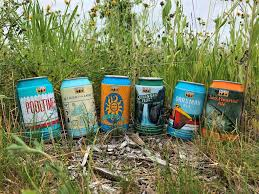can: (15, 76, 62, 141), (204, 75, 245, 137), (168, 78, 208, 139), (130, 75, 170, 136), (95, 75, 135, 136), (59, 78, 99, 137)
